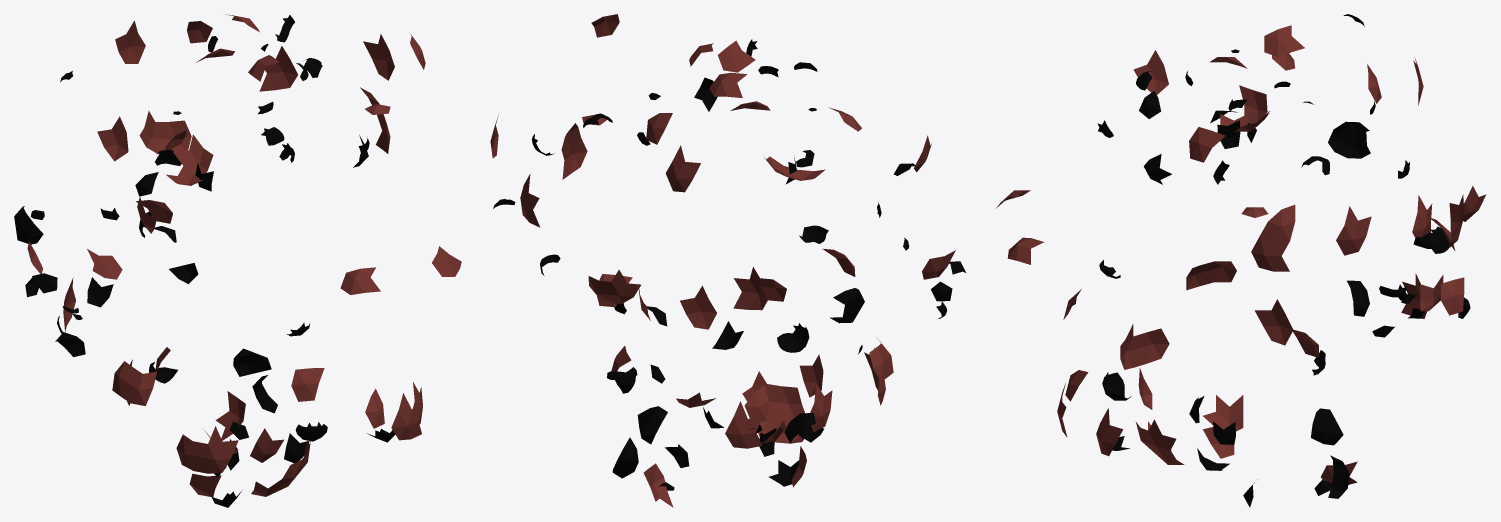
The model's file is explode.f0011.glb.
3 renders of one model, left to right at view 1: azimuth 30°, elevation 25°; view 2: azimuth 150°, elevation 25°; view 3: azimuth 270°, elevation 25°, orthographic. The views are drawn at different scales.
Visible parts, largest first — view 1: Body.001; view 2: Body.001; view 3: Body.001.
Boxes of the visible parts, x1,y1,x2,y2 form: Body.001: (14,14,461,507); Body.001: (490,14,965,507); Body.001: (996,14,1486,507).
Size of the model in its own units: 8.9 by 9.36 by 8.99.
1 material, 1 textured.
